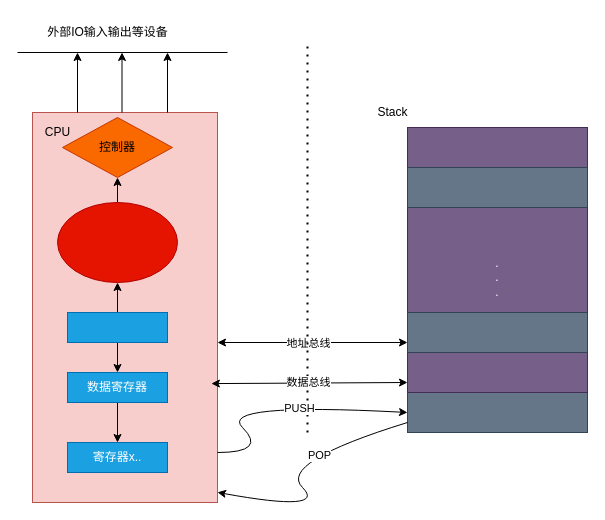
This 605x520 diagram has some shape labels left out. Here are the shapes that lost their labels. From the top down, the centre of each, then its label:
At pixel 117 242: "运算器".
At pixel 117 327: "地址寄存器".
